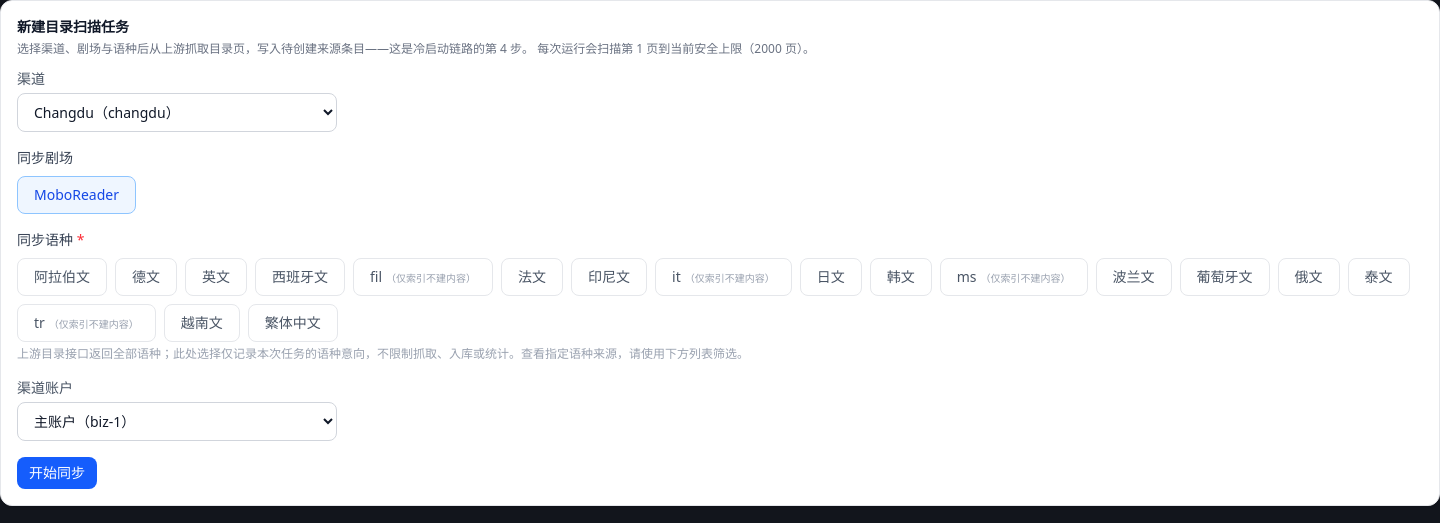
Test case: 同步语种 chip 由 moboreader 18 码派生（L10N P5 矩阵 #13） › 非站点语种 chip 仍可选中并计入语种数（languages[] 只是任务元数据，从不发上游）
This screenshot has width=1440, height=523.
Step 1. Click the button named "it （仅索引不建内容）" → (723, 277), box [655,258,792,296]
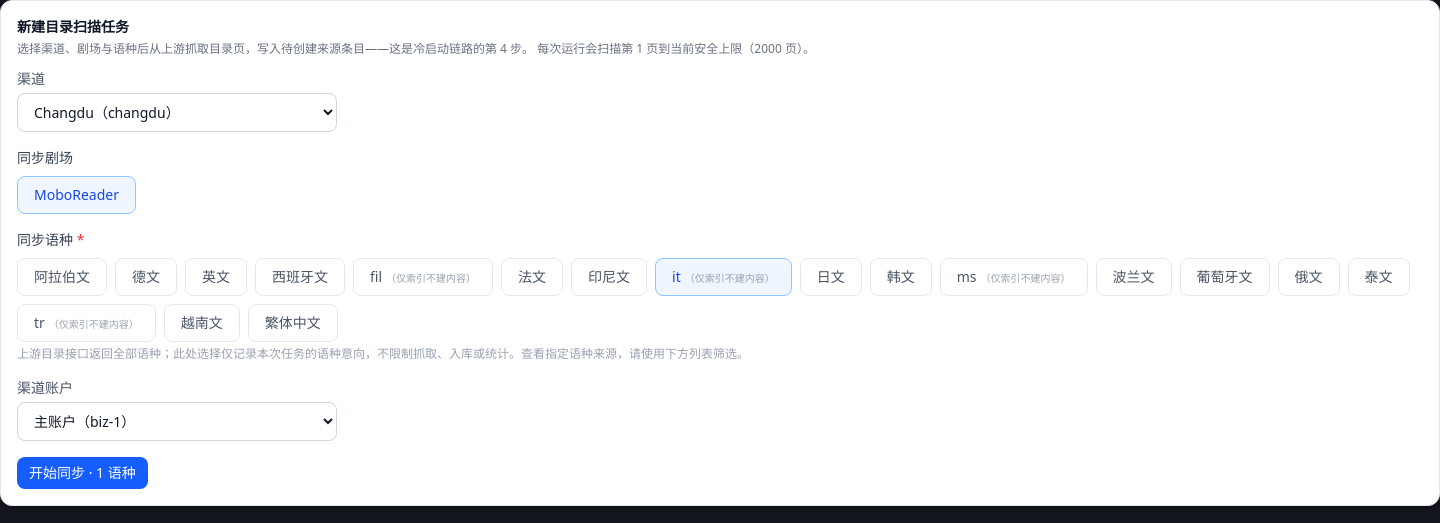
Check: the button "开始同步 · 1 语种" is shown, box [17,457,148,489]
